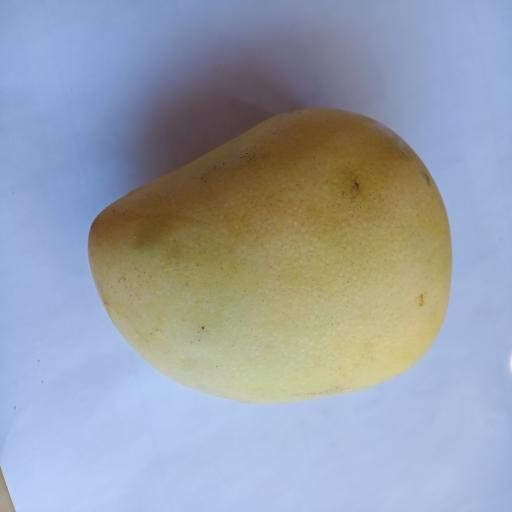mango-ripe: (78, 94, 477, 417)
